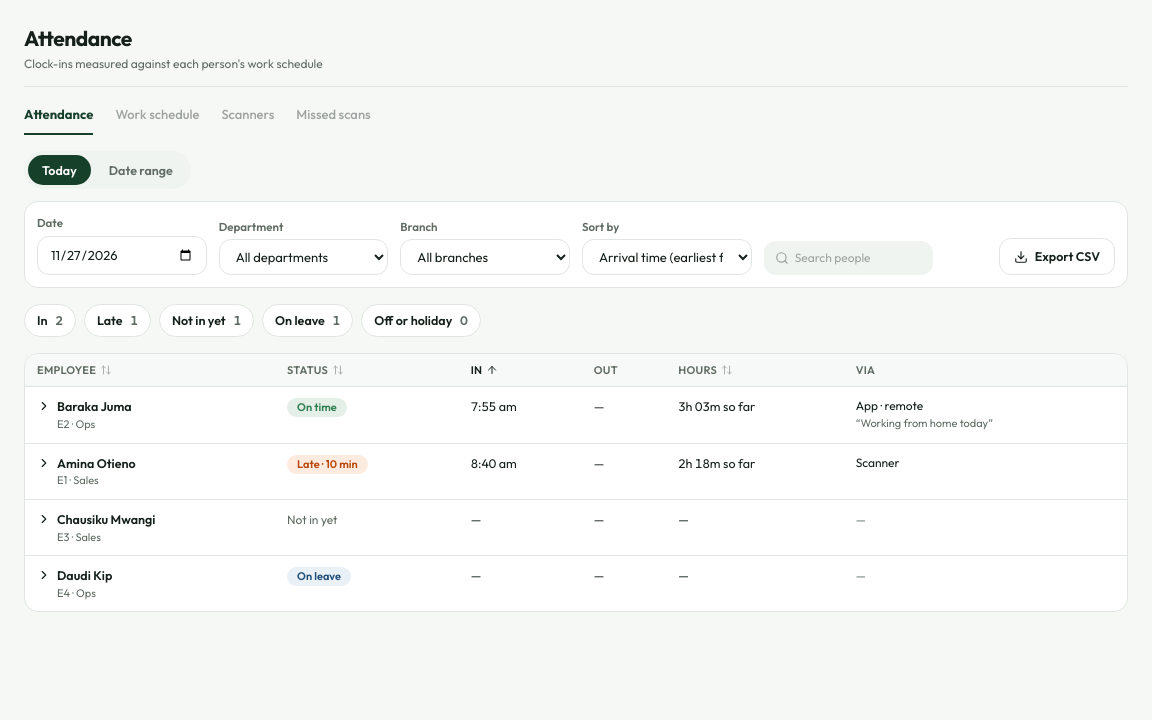
Attendance: the Today view (FIG-1203) › opens a row to show that person’s scans for the day
Click the button with aria-label "Show scans for Amina Otieno": (86, 471) [37,454,136,489]
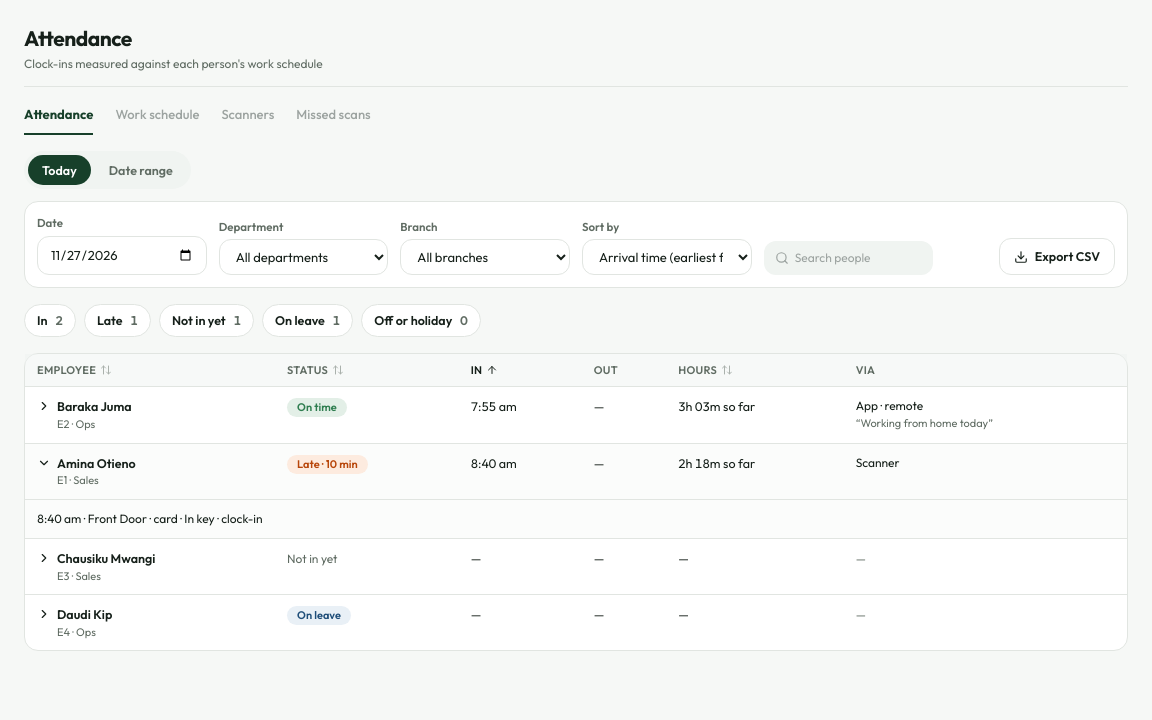
Expected: the list item reads "8:40 am · Front Door · card · In key · clock-in", [37,511,262,526]
Click the button with aria-label "Hide scans for Amina Otieno": (86, 471) [37,454,136,489]
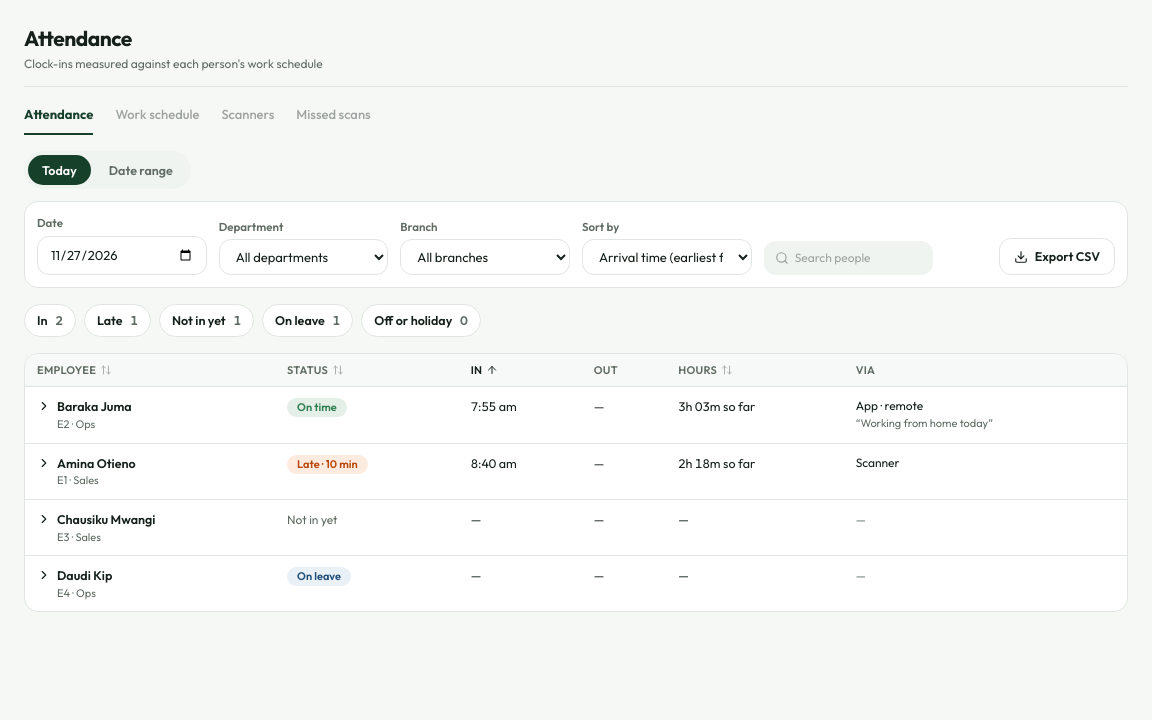
Expected: the list is gone
